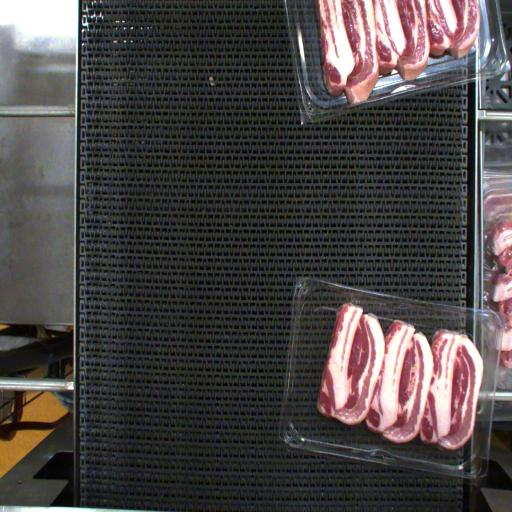packaging-error: (348, 291, 362, 308)
